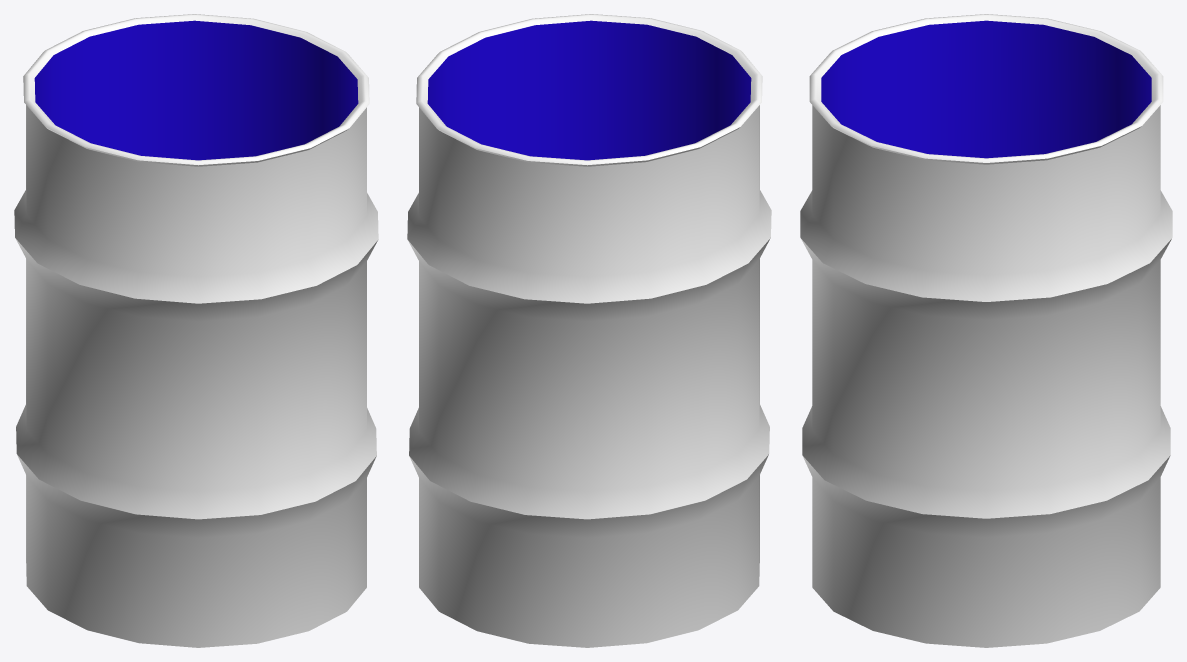
File: bidon.fbx
3 views of the same model, side by side, from view 1: azimuth 30°, elevation 25°; view 2: azimuth 150°, elevation 25°; view 3: azimuth 270°, elevation 25° (orthographic).
Visible parts, largest first — view 1: table1; view 2: table1; view 3: table1.
Part boxes in pixels (left/top/right/bottom): table1: left=14, top=14, right=378, bottom=647; table1: left=407, top=14, right=771, bottom=647; table1: left=800, top=14, right=1172, bottom=647.
Bounding box in the file's own units: 0.7522 × 1.1 × 0.7593.
